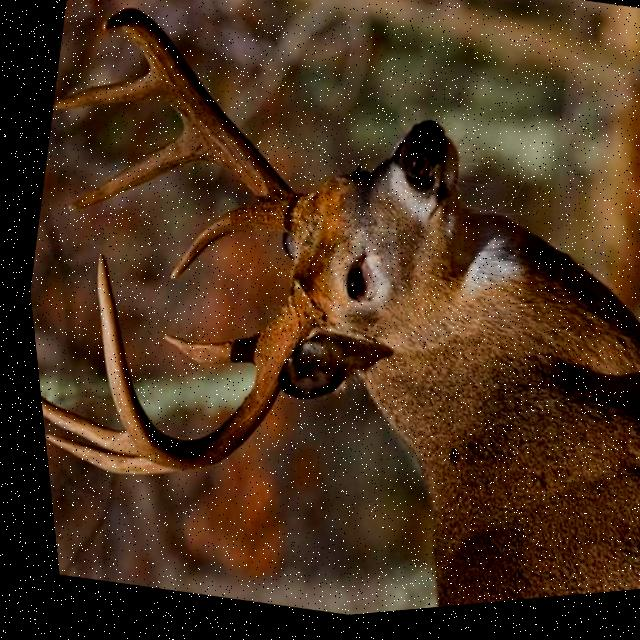L-F: (99, 9, 308, 238)
L-G1: (161, 205, 269, 283)
L-G2: (62, 133, 197, 212)
L-G3: (49, 72, 157, 113)
R-F: (89, 255, 320, 472)
R-G1: (153, 336, 254, 369)
R-G3: (32, 396, 127, 458)
